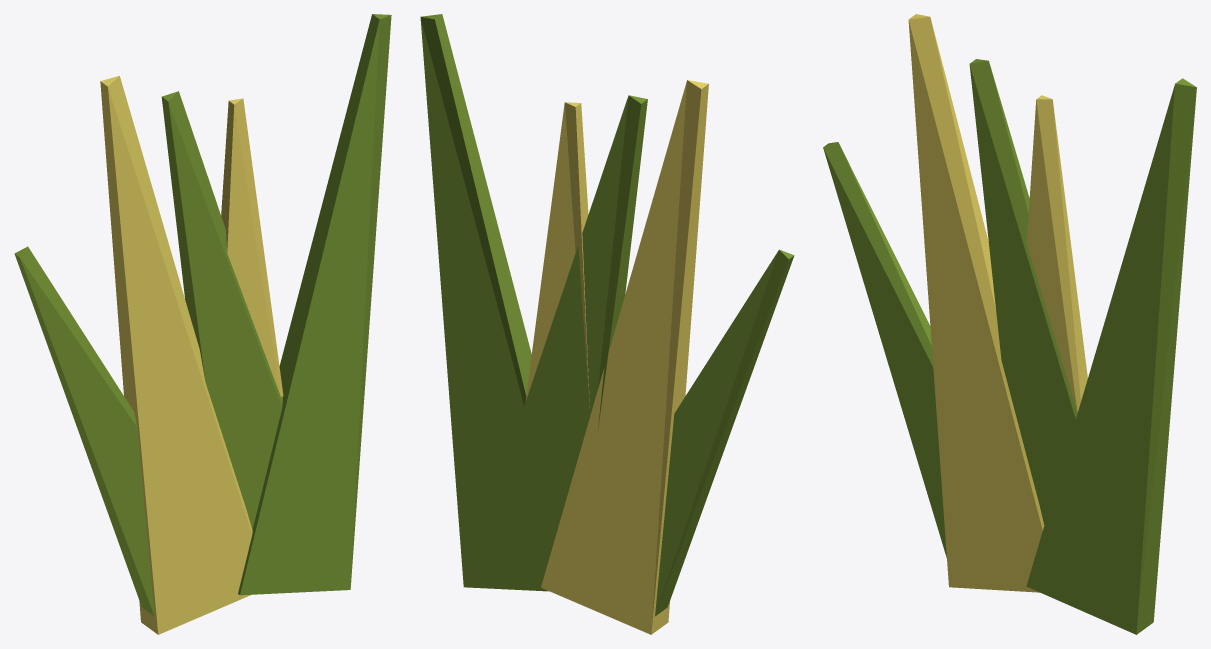
Rendered from Grass_1_Autumn_1.fbx.
3 renders of one model, left to right at view 1: azimuth 30°, elevation 25°; view 2: azimuth 150°, elevation 25°; view 3: azimuth 330°, elevation 25°, orthographic.
Visible parts, largest first — view 1: Grass_1_Autumn_1; view 2: Grass_1_Autumn_1; view 3: Grass_1_Autumn_1.
Part boxes in pixels (box(x1,y1,x2,y2)): Grass_1_Autumn_1: box(14, 14, 391, 634); Grass_1_Autumn_1: box(420, 14, 794, 634); Grass_1_Autumn_1: box(823, 14, 1196, 634).
Bounding box in the file's own units: 23.63 × 33.78 × 2.11.
